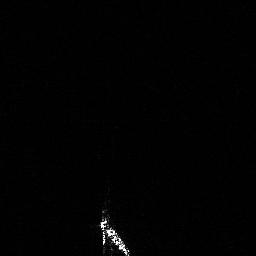ship: (94, 207, 134, 256)
